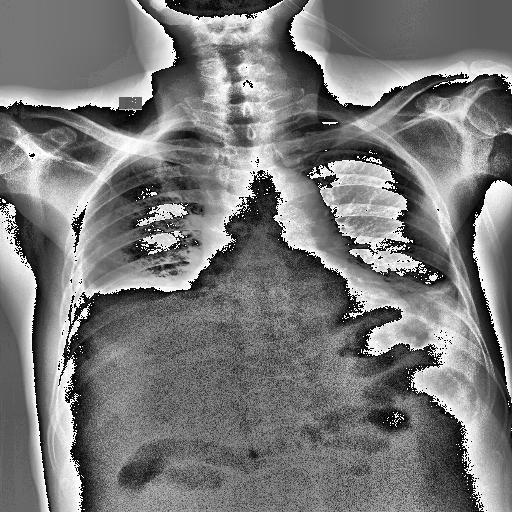0- Aortic enlargement: (250, 168, 338, 236), (254, 168, 338, 234), (249, 169, 324, 213)
10- Pleural effusion: (73, 263, 173, 320), (60, 271, 113, 322), (66, 275, 98, 321), (450, 282, 472, 326)
11- Pleural thickening: (60, 271, 113, 322), (66, 275, 98, 321), (450, 282, 472, 326)
13- Pulmonary fibrosis: (400, 278, 454, 300), (402, 278, 458, 296), (118, 276, 182, 290)
3- Cardiomegaly: (174, 264, 402, 314), (170, 280, 408, 322)
4- Consolidation: (390, 270, 460, 316), (88, 274, 172, 298)
7- Lung Opacity: (390, 270, 460, 316), (88, 274, 172, 298), (80, 276, 180, 292), (400, 278, 454, 300), (118, 276, 182, 290)
